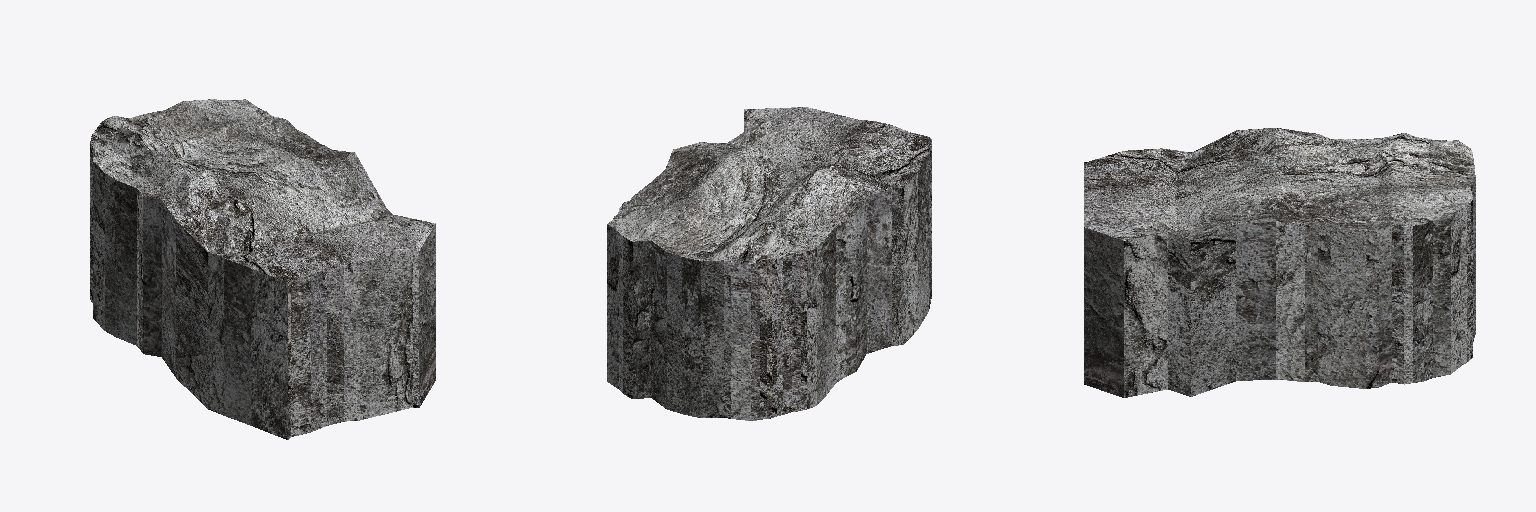
3 renders of one model, left to right at view 1: azimuth 30°, elevation 25°; view 2: azimuth 150°, elevation 25°; view 3: azimuth 270°, elevation 25°, orthographic.
Parts seen in each view (by area): view 1: Group05; view 2: Group05; view 3: Group05.
Part boxes in pixels (bbox=[...]): Group05: bbox=[90, 99, 435, 439]; Group05: bbox=[607, 107, 931, 420]; Group05: bbox=[1084, 128, 1475, 397].
Bounding box in the file's own units: 141 × 131 × 235.
2 materials, 1 textured.